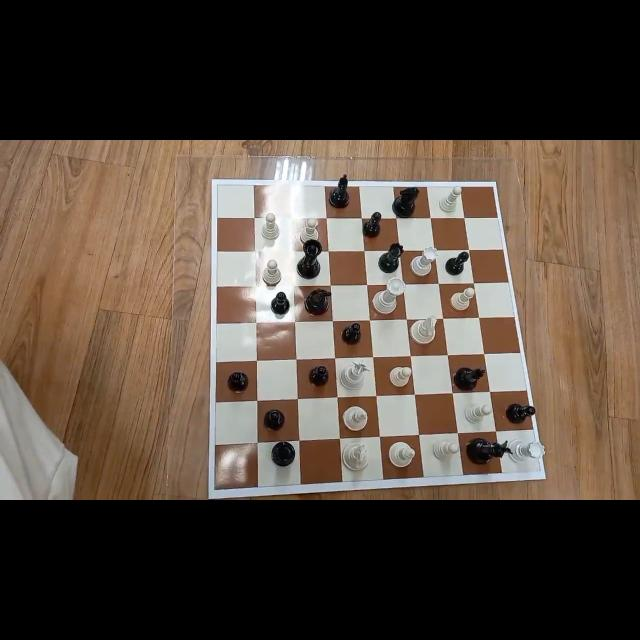chessboard-corner: (209, 176, 215, 184), (205, 494, 213, 500), (544, 476, 548, 482), (494, 180, 498, 186)
